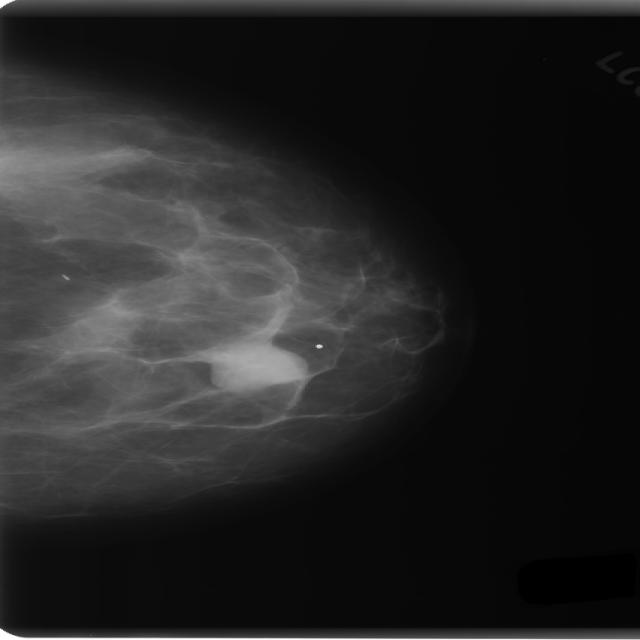tumour: (202, 340, 306, 389)
